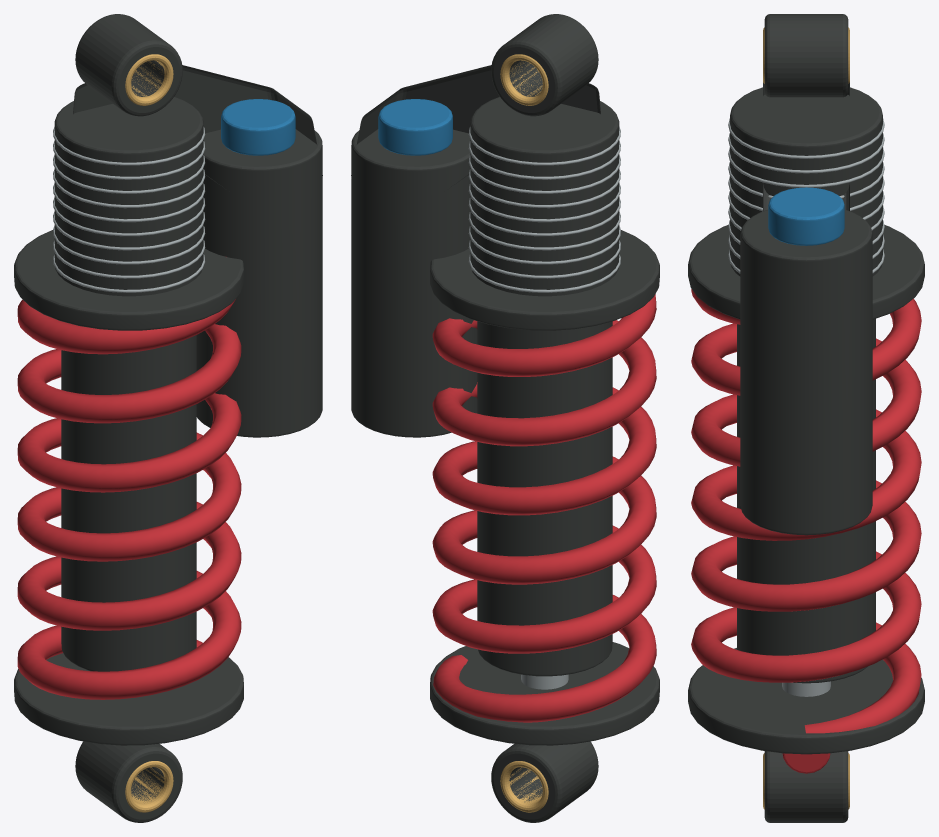
The model's file is rockshox-vivid-coil-ultimate-d1--a6170ca2.glb.
3 views of the same model, side by side, from view 1: azimuth 30°, elevation 25°; view 2: azimuth 150°, elevation 25°; view 3: azimuth 270°, elevation 25° (orthographic). The views are drawn at different scales.
Visible parts, largest first — view 1: rockshox-vivid-coil-ultimate-d1--a6170ca2__link, rockshox-vivid-coil-ultimate-d1--a6170ca2__rebound, rockshox-vivid-coil-ultimate-d1--a6170ca2__bolts, rockshox-vivid-coil-ultimate-d1--a6170ca2__adjuster, rockshox-vivid-coil-ultimate-d1--a6170ca2__stanchions; view 2: rockshox-vivid-coil-ultimate-d1--a6170ca2__link, rockshox-vivid-coil-ultimate-d1--a6170ca2__rebound, rockshox-vivid-coil-ultimate-d1--a6170ca2__bolts, rockshox-vivid-coil-ultimate-d1--a6170ca2__adjuster, rockshox-vivid-coil-ultimate-d1--a6170ca2__stanchions; view 3: rockshox-vivid-coil-ultimate-d1--a6170ca2__link, rockshox-vivid-coil-ultimate-d1--a6170ca2__rebound, rockshox-vivid-coil-ultimate-d1--a6170ca2__bolts, rockshox-vivid-coil-ultimate-d1--a6170ca2__adjuster, rockshox-vivid-coil-ultimate-d1--a6170ca2__stanchions.
Boxes of the visible parts, x1,y1,x2,y2 form: rockshox-vivid-coil-ultimate-d1--a6170ca2__link: (14,14,322,822); rockshox-vivid-coil-ultimate-d1--a6170ca2__rebound: (17,299,241,699); rockshox-vivid-coil-ultimate-d1--a6170ca2__bolts: (53,127,205,292); rockshox-vivid-coil-ultimate-d1--a6170ca2__adjuster: (221,99,295,155); rockshox-vivid-coil-ultimate-d1--a6170ca2__stanchions: (125,54,173,812); rockshox-vivid-coil-ultimate-d1--a6170ca2__link: (351,14,659,822); rockshox-vivid-coil-ultimate-d1--a6170ca2__rebound: (432,294,656,722); rockshox-vivid-coil-ultimate-d1--a6170ca2__bolts: (468,127,620,689); rockshox-vivid-coil-ultimate-d1--a6170ca2__adjuster: (378,99,452,155); rockshox-vivid-coil-ultimate-d1--a6170ca2__stanchions: (500,54,548,812); rockshox-vivid-coil-ultimate-d1--a6170ca2__link: (688,14,924,822); rockshox-vivid-coil-ultimate-d1--a6170ca2__rebound: (691,289,921,773); rockshox-vivid-coil-ultimate-d1--a6170ca2__bolts: (728,118,884,696); rockshox-vivid-coil-ultimate-d1--a6170ca2__adjuster: (768,187,844,245); rockshox-vivid-coil-ultimate-d1--a6170ca2__stanchions: (763,27,849,809).
Size of the model in its own units: 0.097 by 0.254 by 0.068.
